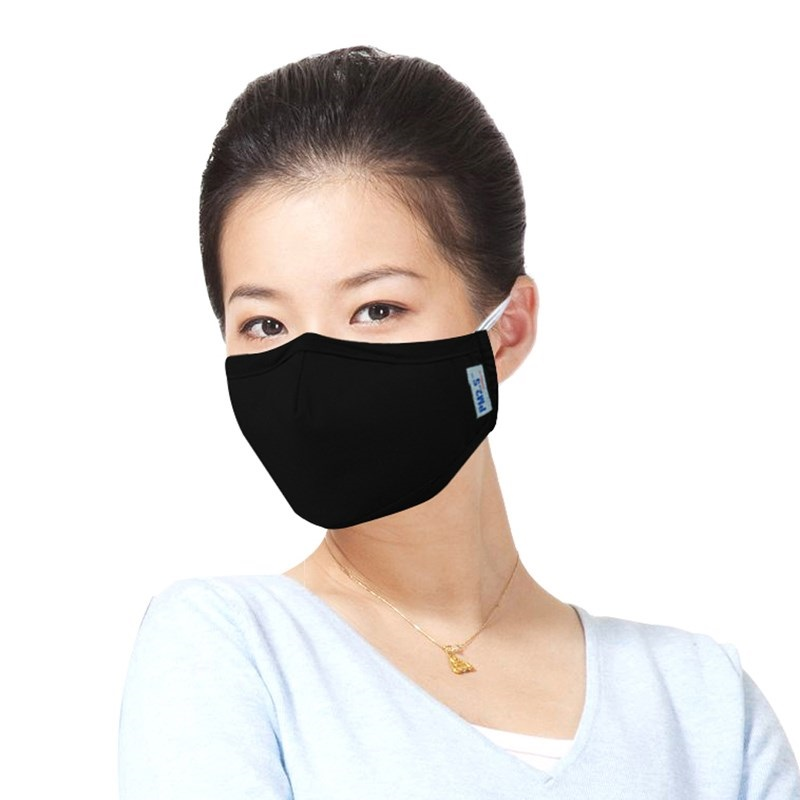face_mask: (218, 162, 479, 516)
